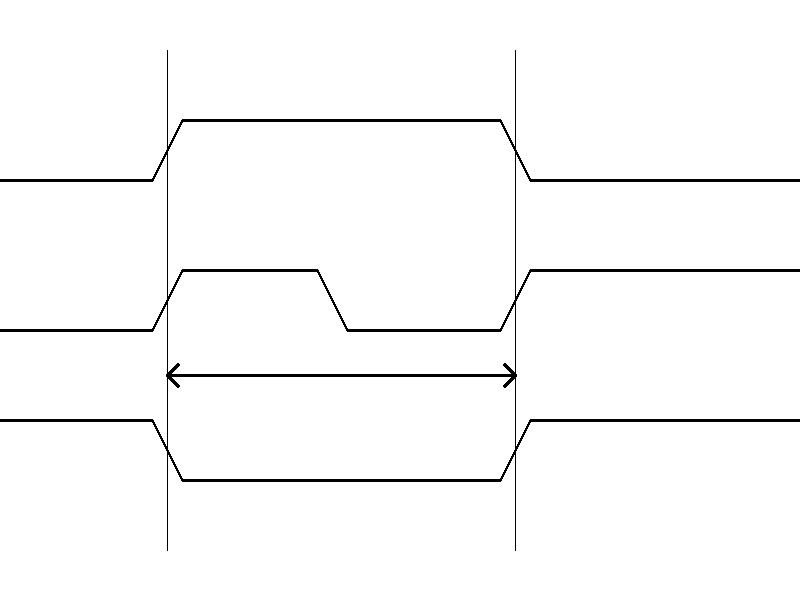double_arrow: (167, 360, 515, 390)
